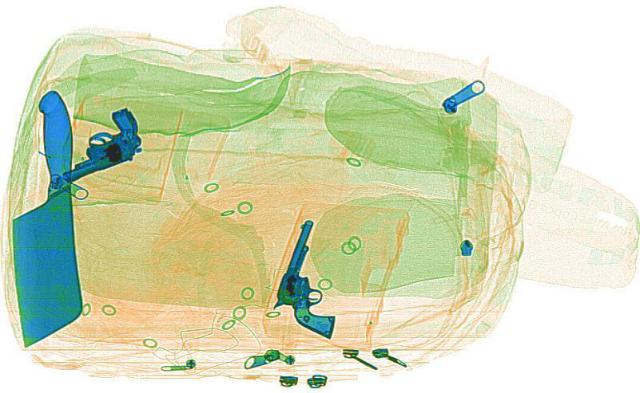Gun: (261, 217, 369, 337), (25, 105, 172, 180)
Knife: (0, 89, 83, 347)
